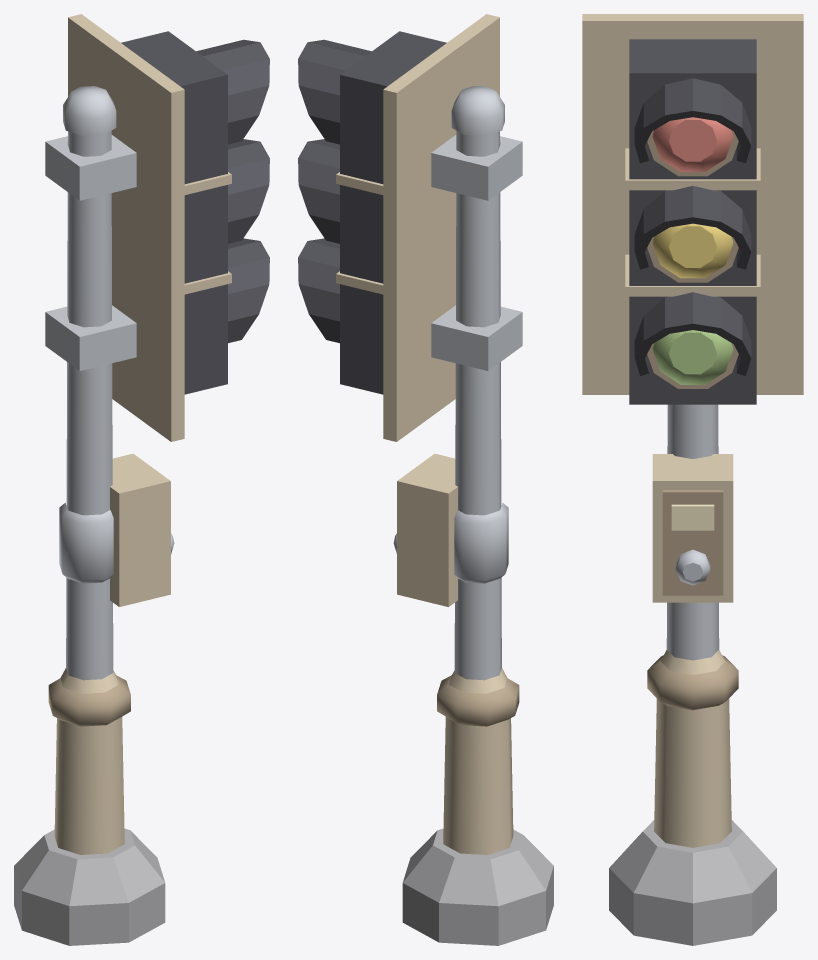
Rendered from building.trafficlight.glb.
3 views of the same model, side by side, from view 1: azimuth 30°, elevation 25°; view 2: azimuth 150°, elevation 25°; view 3: azimuth 270°, elevation 25° (orthographic). The views are drawn at different scales.
Parts seen in each view (by area): view 1: Paint, Metal, Rubber, Stone, PaintDark; view 2: Paint, Metal, Rubber, Stone, PaintDark; view 3: Paint, Rubber, Stone, PaintDark, Metal, FruitGold, FruitGreen, FruitRed, Light.
Boxes of the visible parts, bbox=[...] form: Paint: bbox=[54, 14, 231, 854]; Metal: bbox=[45, 86, 174, 680]; Rubber: bbox=[121, 31, 269, 394]; Stone: bbox=[14, 828, 165, 945]; PaintDark: bbox=[48, 675, 130, 726]; Paint: bbox=[336, 14, 513, 854]; Metal: bbox=[393, 86, 522, 680]; Rubber: bbox=[298, 31, 446, 394]; Stone: bbox=[402, 828, 553, 945]; PaintDark: bbox=[437, 675, 519, 726]; Paint: bbox=[582, 14, 803, 847]; Rubber: bbox=[629, 39, 756, 404]; Stone: bbox=[609, 820, 776, 945]; PaintDark: bbox=[647, 130, 738, 710]; Metal: bbox=[666, 404, 719, 660]; FruitGold: bbox=[652, 223, 733, 278]; FruitGreen: bbox=[652, 330, 733, 384]; FruitRed: bbox=[652, 117, 733, 171]; Light: bbox=[671, 504, 714, 530].
Bounding box in the file's own units: 0.44 × 1.5 × 0.33.
